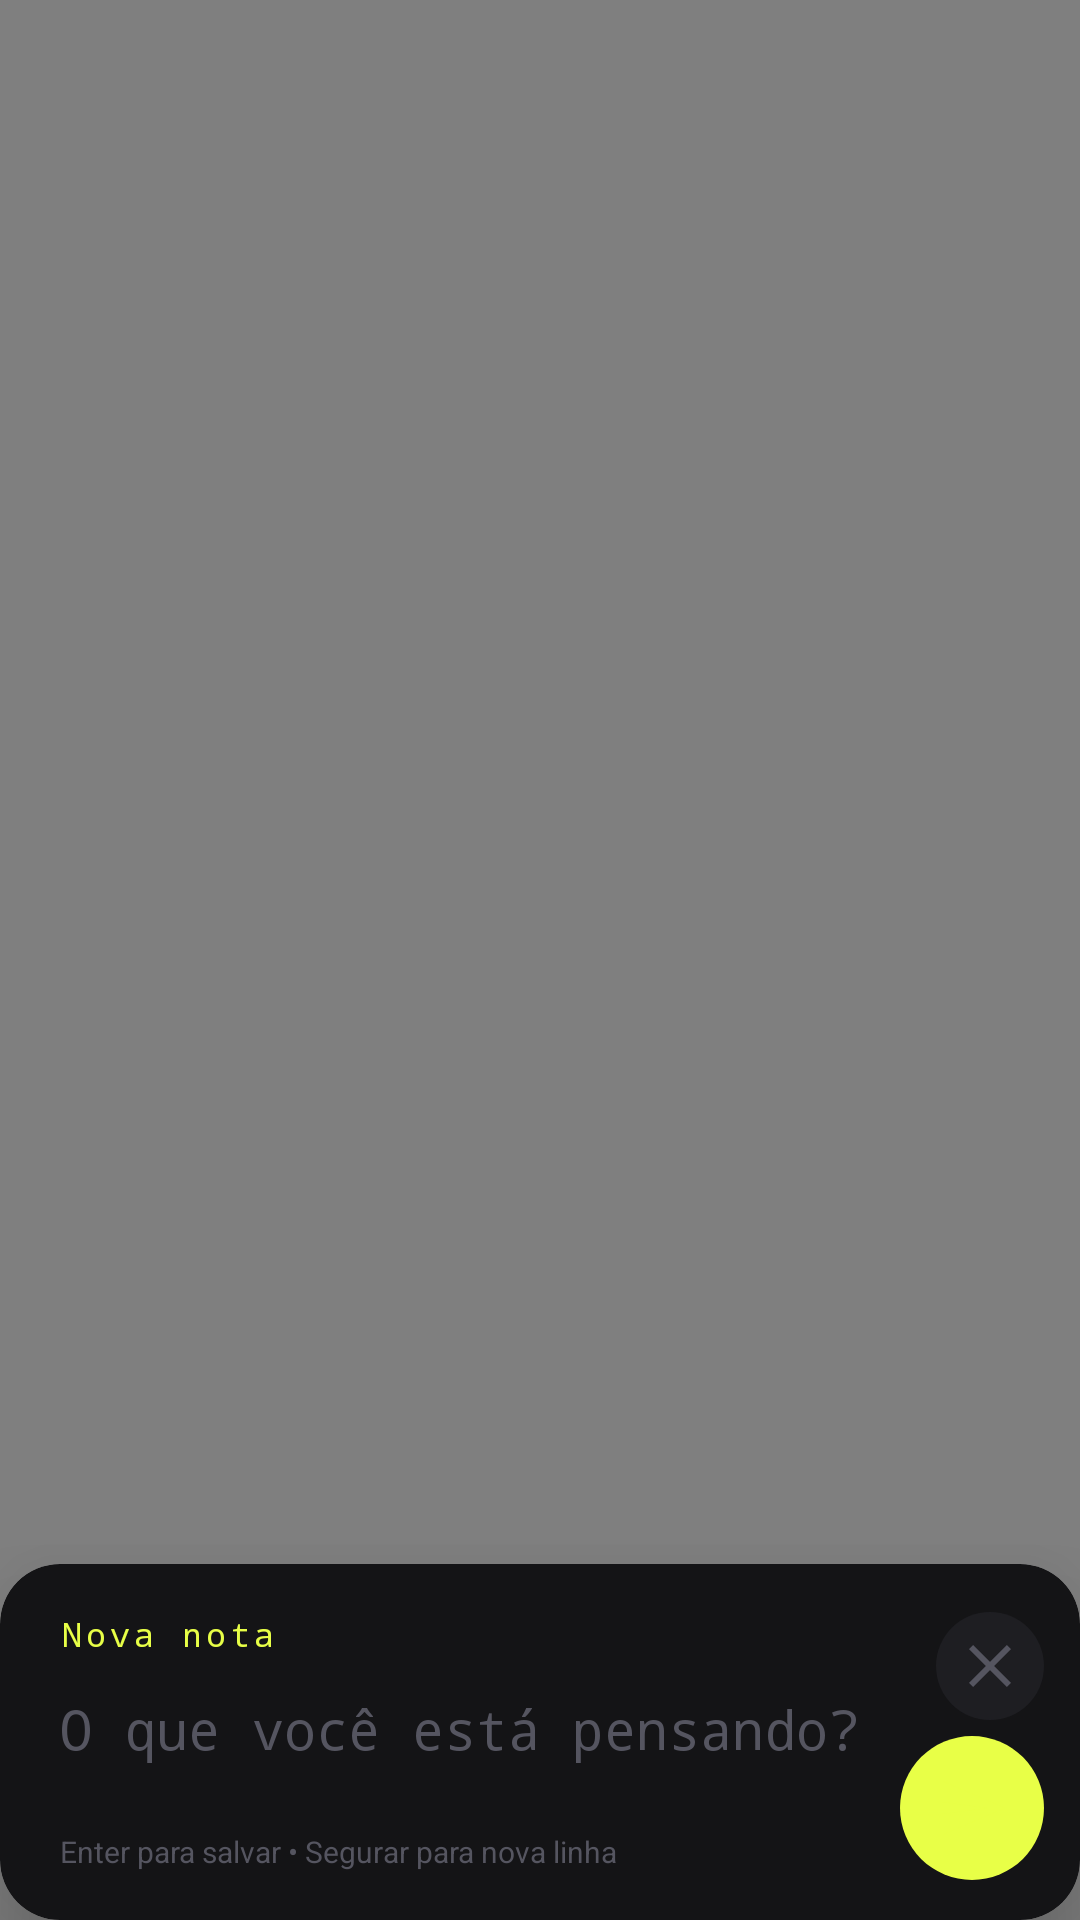

Locate icon controls on the screen. Image size 1080*1920, boxes as [left=x1, top=y1, right=x2, bottom=y2].
Fechar: [left=936, top=1612, right=1044, bottom=1720]
